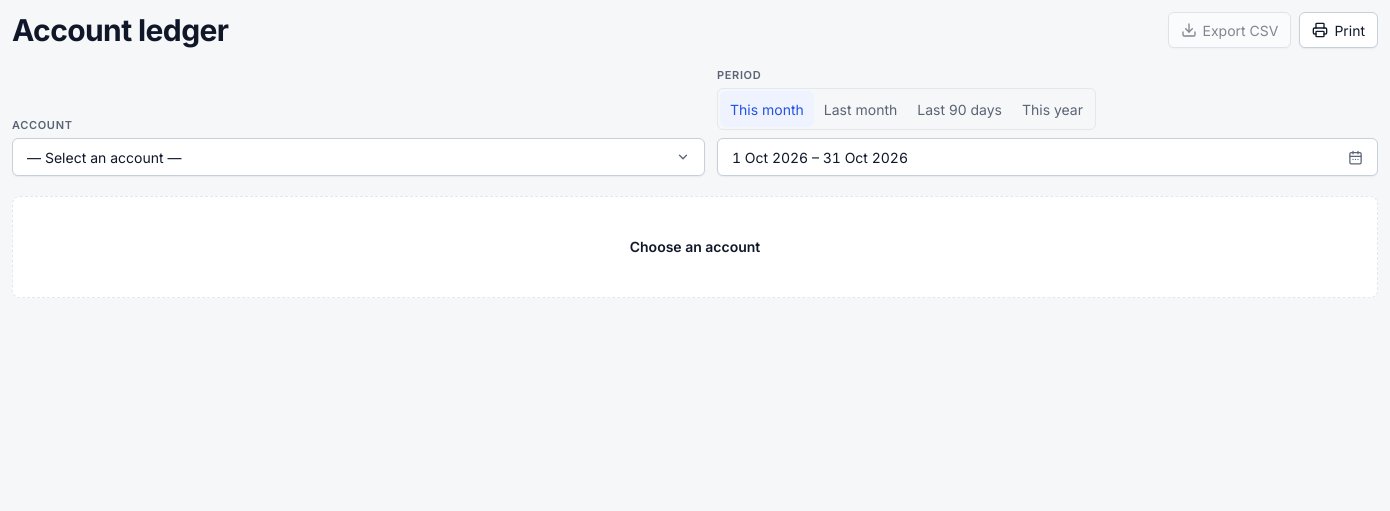
Test: AccountLedgerReport › reads a credit-side account on its own side
What coordinates should you click on to do the following:
click the dropdown labelled "account"
I would click on:
 (104, 157)
Its box is [12,138,705,176].
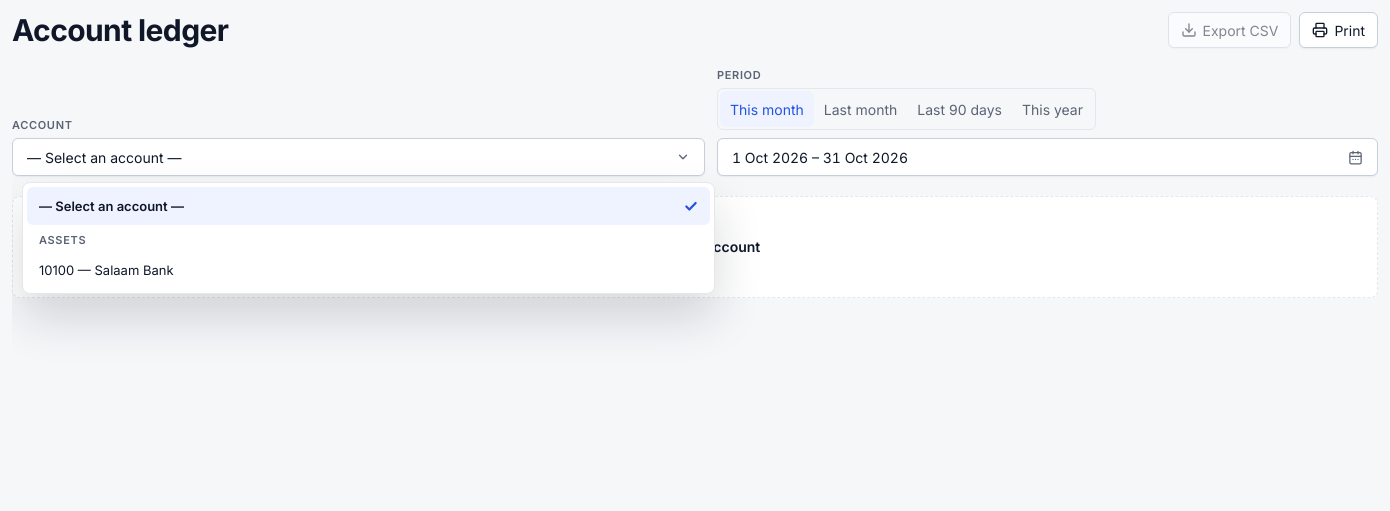
What coordinates should you click on to do the following:
click the option "10100 — Salaam Bank"
I would click on:
 (106, 270)
Its box is [39,262,174,278].
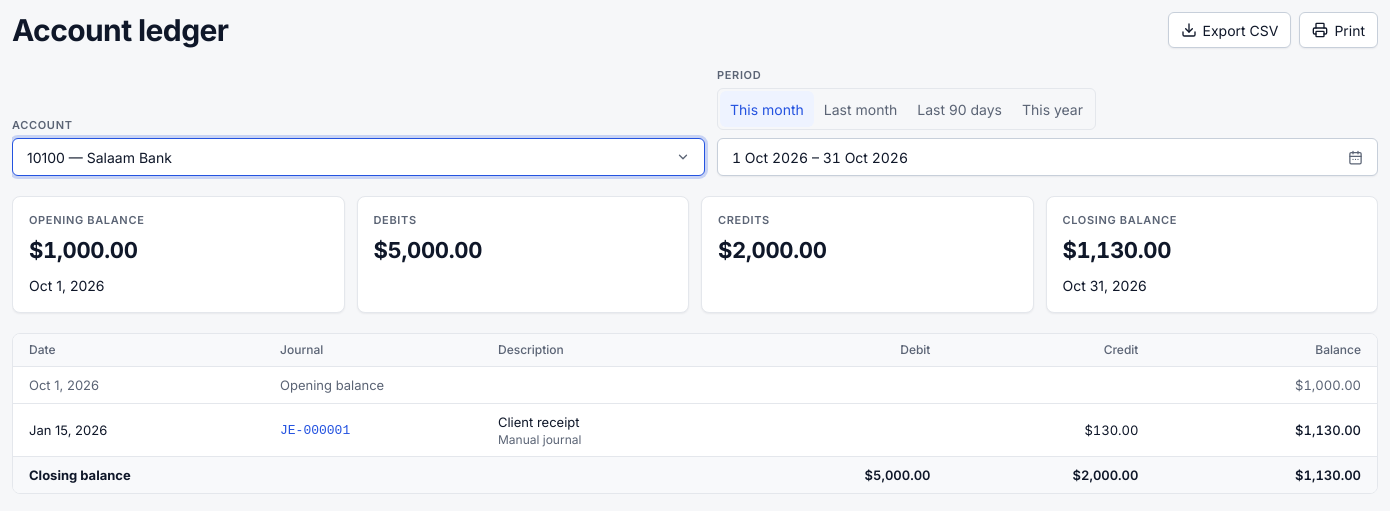
expect the text "$1,130.00" in the row of "Jan 15, 2026" is shown: met, box [1295,422,1361,438]
